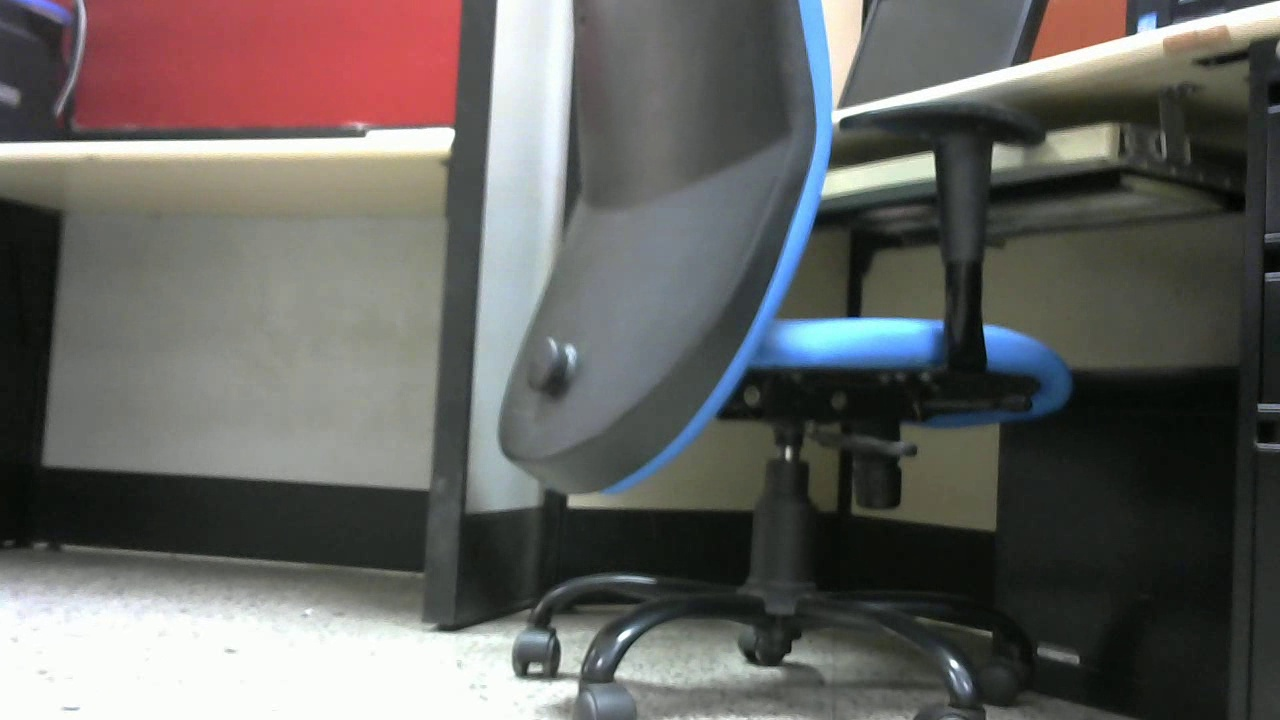chair: (497, 3, 1078, 720)
